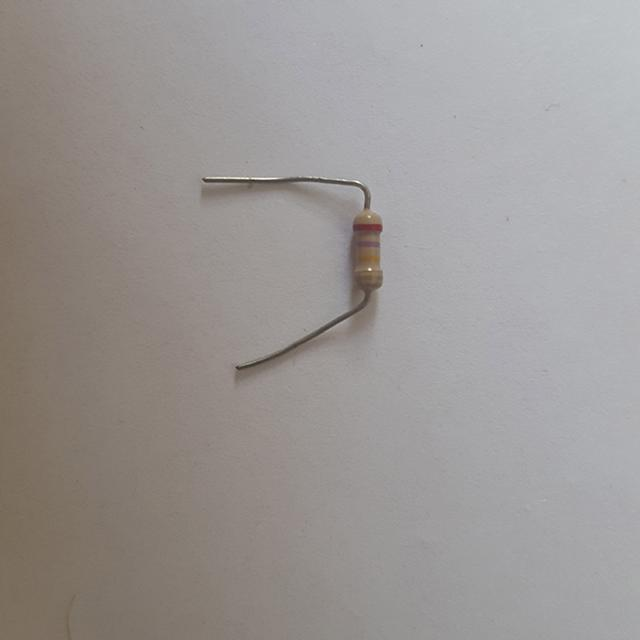gold: (356, 271, 382, 277)
red: (355, 224, 381, 230)
resistor: (339, 206, 399, 312)
violet: (358, 240, 379, 246)
yellow: (356, 254, 379, 262)
